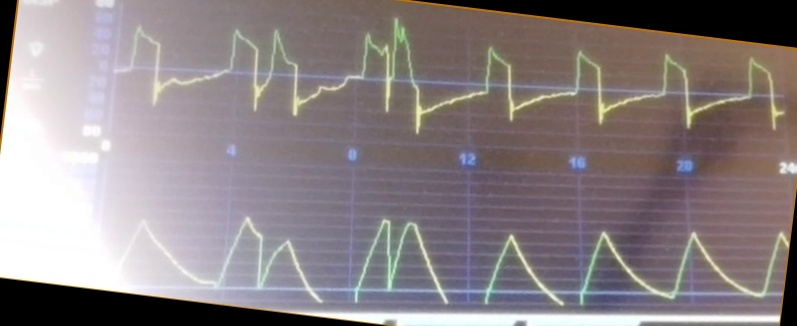Double_Triggering Flow: (121, 17, 743, 141)
Double_Triggering Volume: (128, 214, 780, 307)
